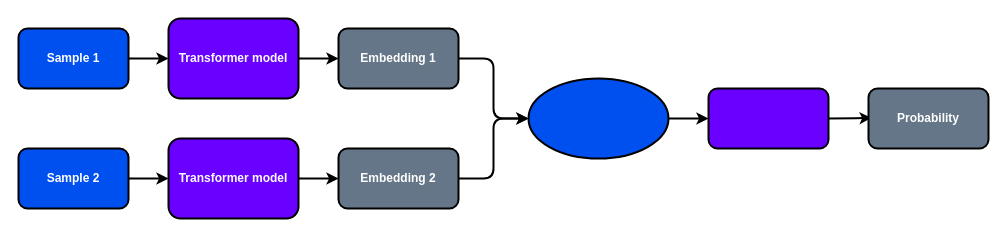
This 1006x236 diagram has some shape labels left out. The centre of each missing label's shape, as x and y in pixels:
Sigmoid: the point at 768,118
Similarity function: the point at 598,118
